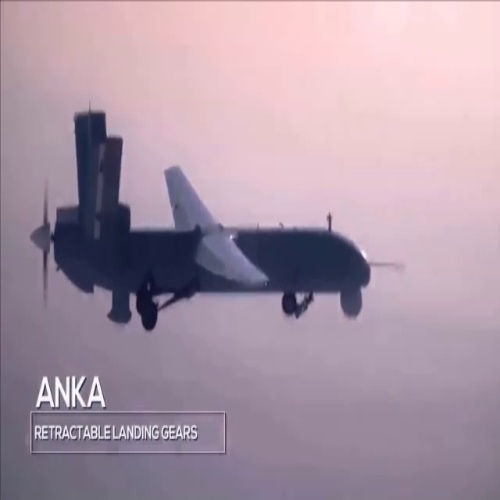uav760: (22, 103, 408, 334)
